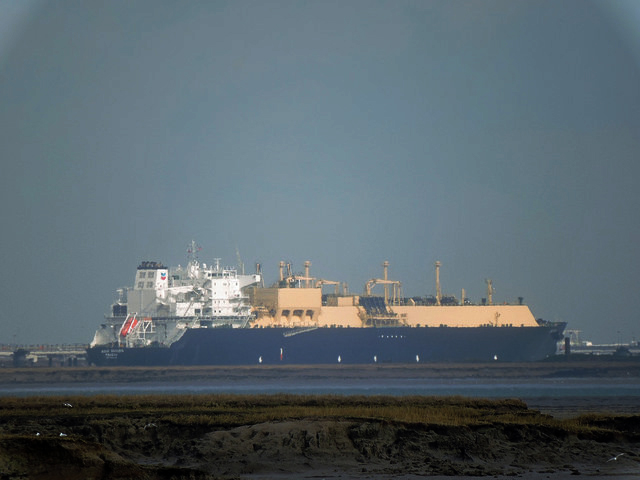LNG_ship: (85, 249, 580, 361)
